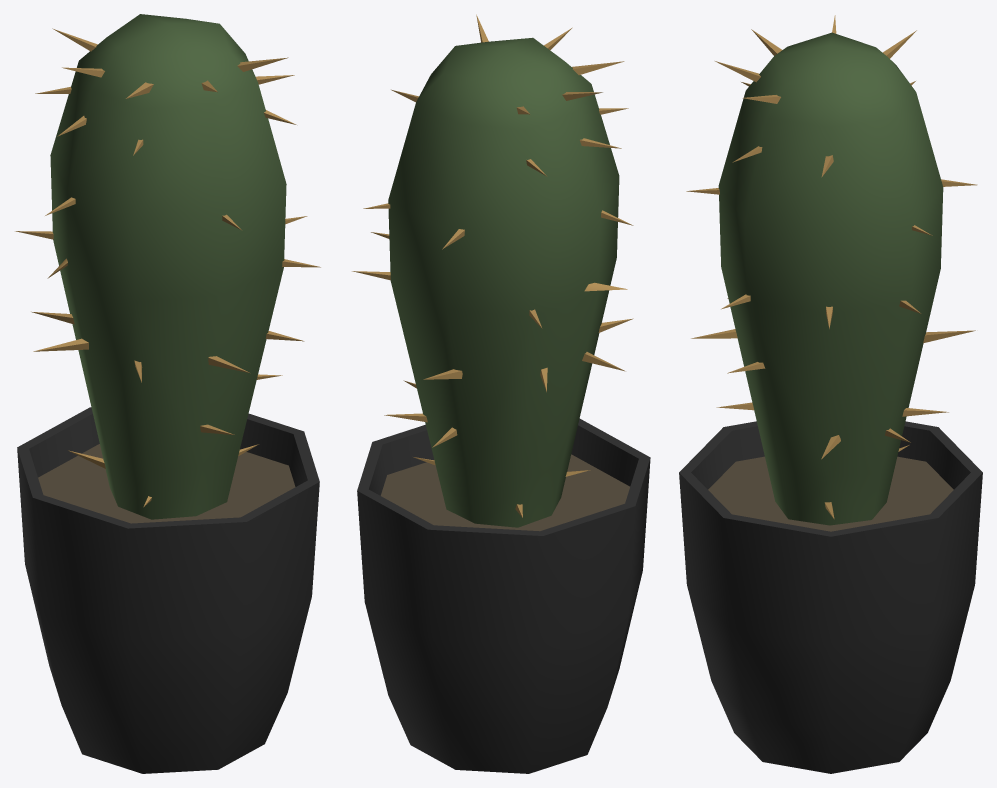
File: Houseplant_3.glb
3 renders of one model, left to right at view 1: azimuth 30°, elevation 25°; view 2: azimuth 150°, elevation 25°; view 3: azimuth 270°, elevation 25°, orthographic. The views are drawn at different scales.
Visible parts, largest first — view 1: Houseplant_3_Cylinder.020; view 2: Houseplant_3_Cylinder.020; view 3: Houseplant_3_Cylinder.020.
Part boxes in pixels (box(x1,y1,x2,y2)): Houseplant_3_Cylinder.020: box(15, 14, 320, 773); Houseplant_3_Cylinder.020: box(352, 14, 650, 773); Houseplant_3_Cylinder.020: box(679, 15, 982, 773).
Bounding box in the file's own units: 0.3426 × 0.8449 × 0.3383.
